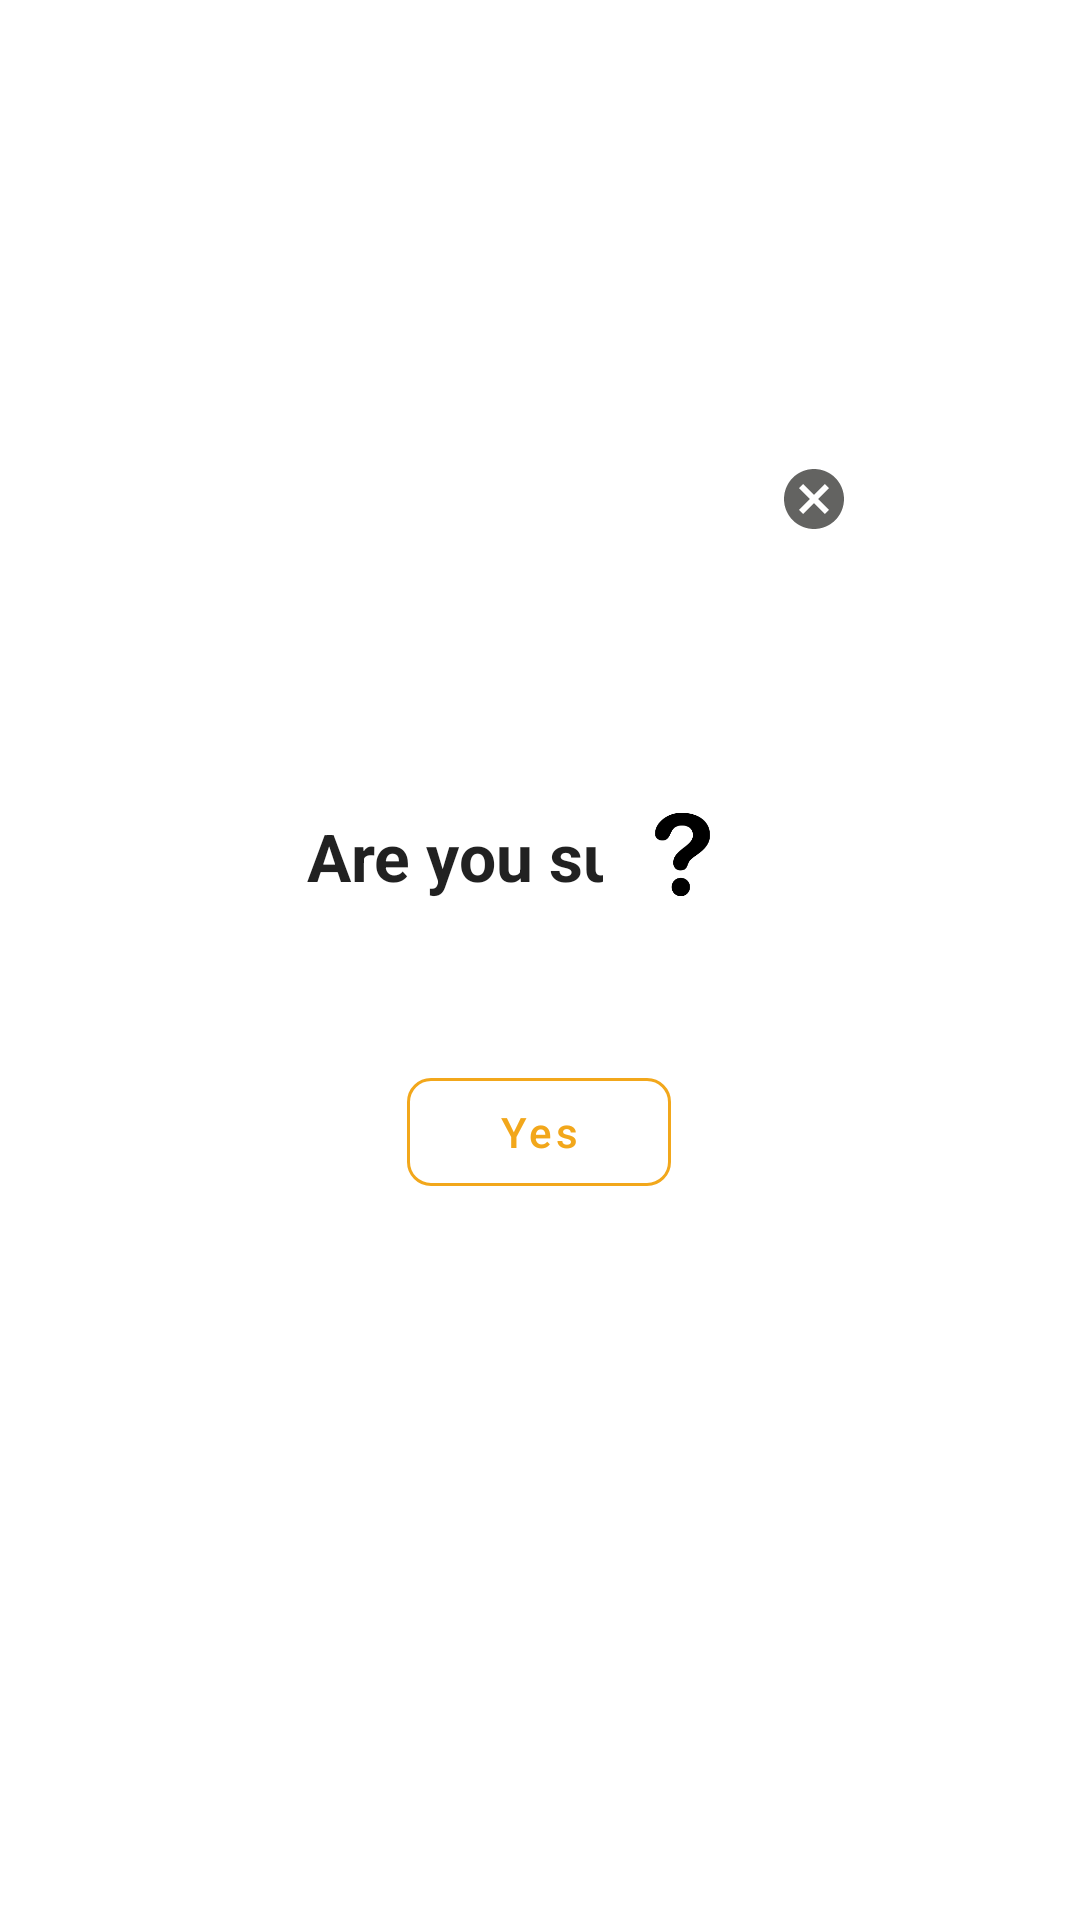

Screen size 1080×1920. Icon name, then its center in pixels as point (x, y):
cancel: point (814, 499)
question: point (682, 854)
